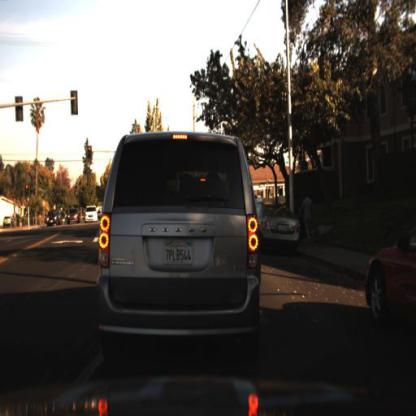car: (100, 131, 259, 354), (365, 215, 416, 344), (253, 202, 300, 245), (103, 194, 121, 231), (84, 202, 102, 224), (47, 208, 61, 227), (65, 208, 80, 225), (2, 212, 14, 231)
pedestrian: (296, 179, 319, 258), (299, 189, 313, 249)
trafficLight: (238, 142, 252, 167)
trafficLight-Red: (23, 178, 32, 195)
trafficLight-RedLeft: (86, 143, 94, 166), (24, 183, 31, 204)
